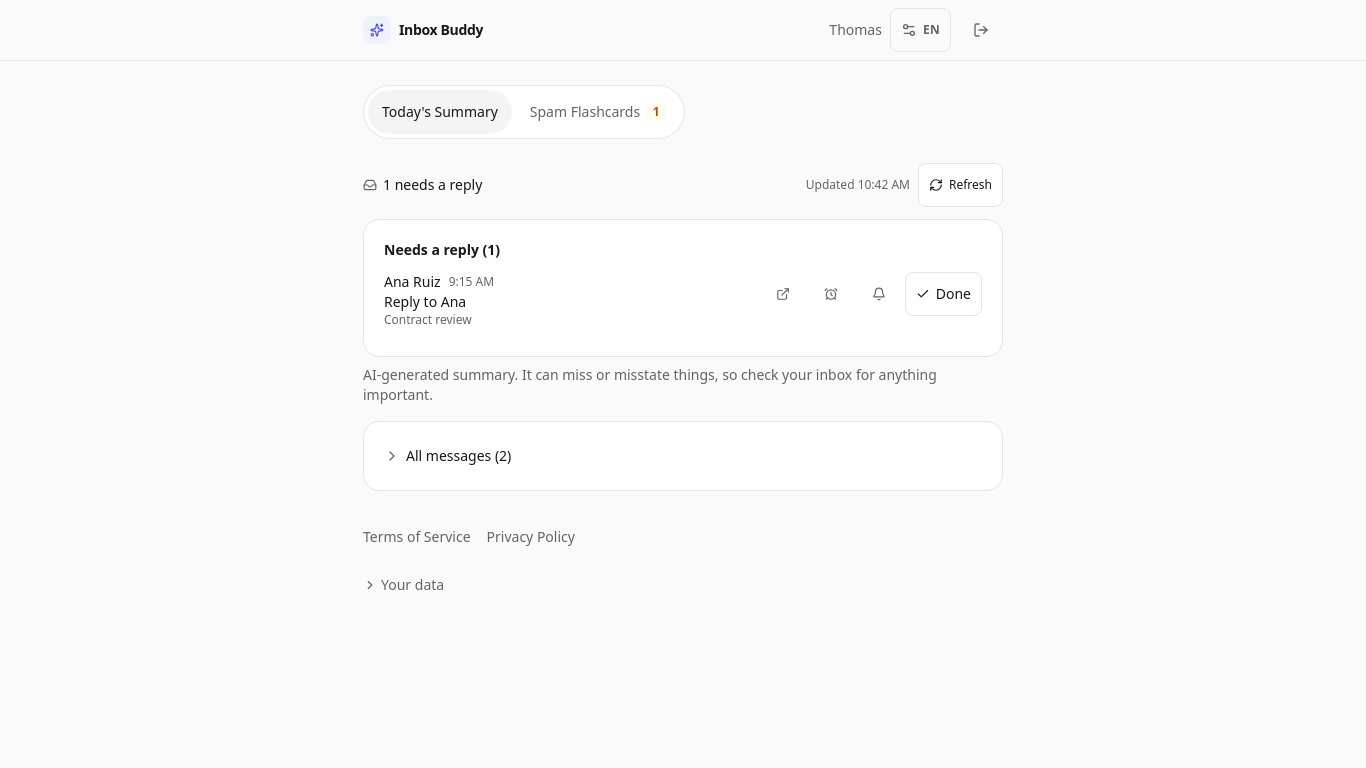
Scenario: Dashboard › summary tab › Snooze and Remind me › Escape closes the menu and puts focus back on its button
The width and height of the screenshot is (1366, 768).
Click the button named "Remind me about “Contract review”" at {"x": 879, "y": 294}, box [857,272,901,316]
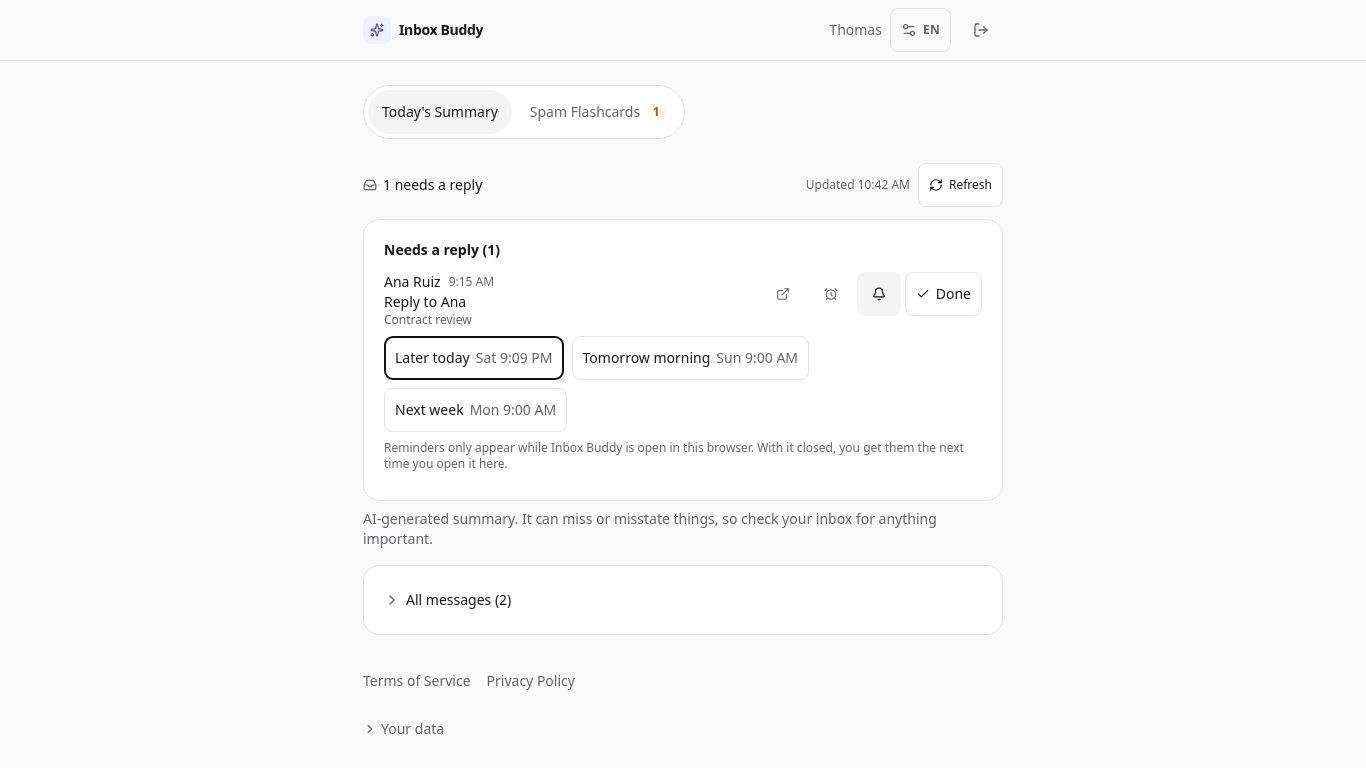
Press Escape in the button "Later today Sat 9:09 PM", box [384,336,564,380]
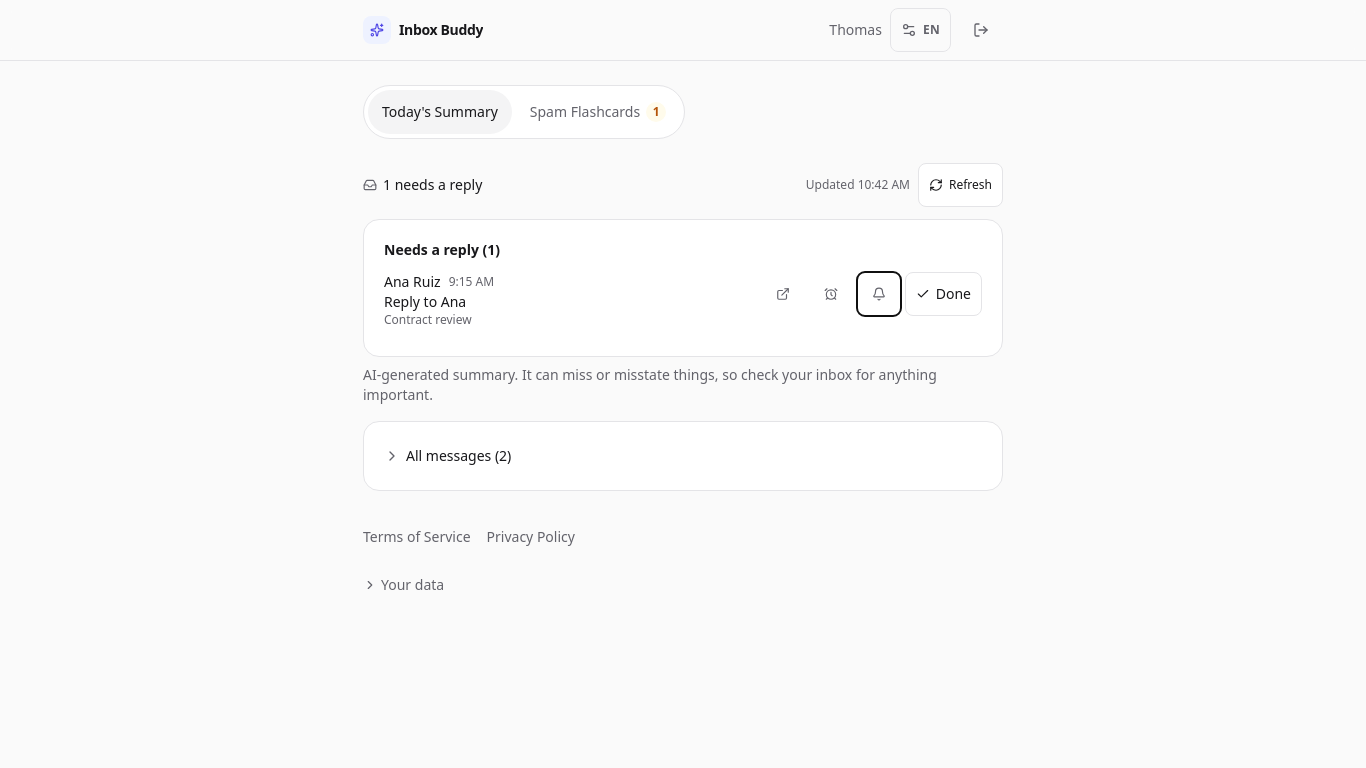
Expected: the button named "Remind me about “Contract review”" is collapsed, [857,272,901,316]
